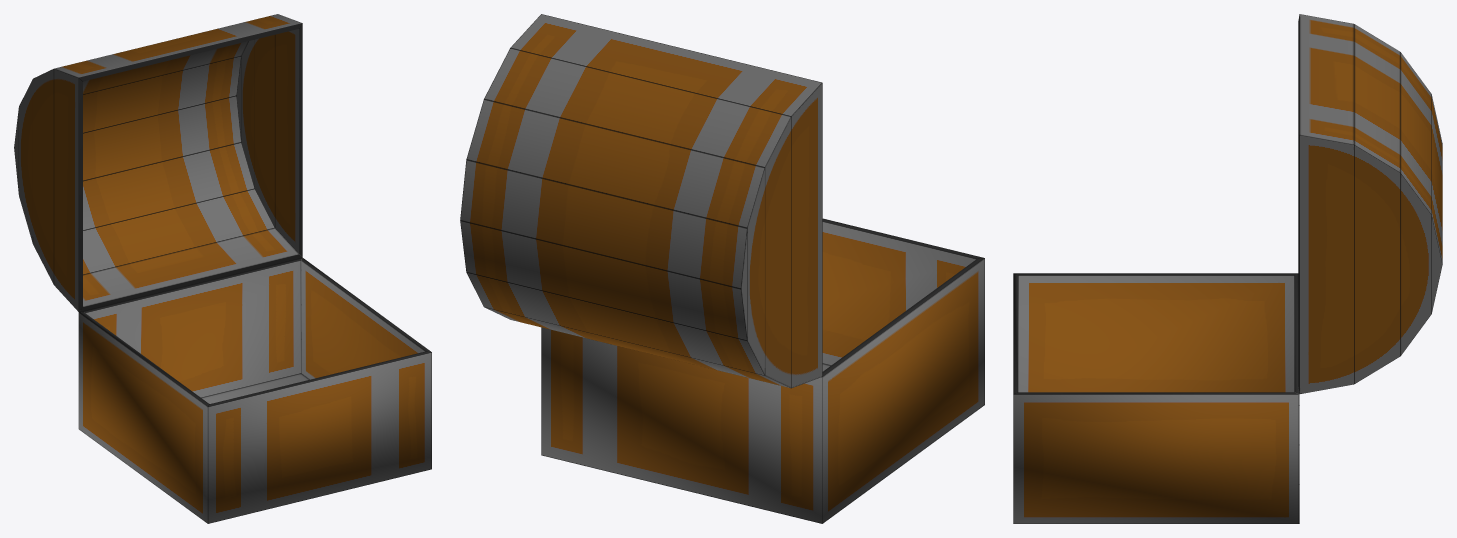
Rendered from Chest.fbx.
3 renders of one model, left to right at view 1: azimuth 30°, elevation 25°; view 2: azimuth 150°, elevation 25°; view 3: azimuth 270°, elevation 25°, orthographic. The views are drawn at different scales.
Parts seen in each view (by area): view 1: Cube, cover; view 2: cover, Cube; view 3: Cube, cover.
Boxes of the visible parts, x1=… form: Cube: x1=78, y1=257, x2=431, y2=523; cover: x1=14, y1=14, x2=302, y2=311; cover: x1=460, y1=14, x2=822, y2=388; Cube: x1=541, y1=218, x2=984, y2=523; Cube: x1=1013, y1=273, x2=1299, y2=523; cover: x1=1298, y1=14, x2=1442, y2=393.
Bounding box in the file's own units: 200 × 300 × 300.
Materials: 1 (1 with a texture image).
